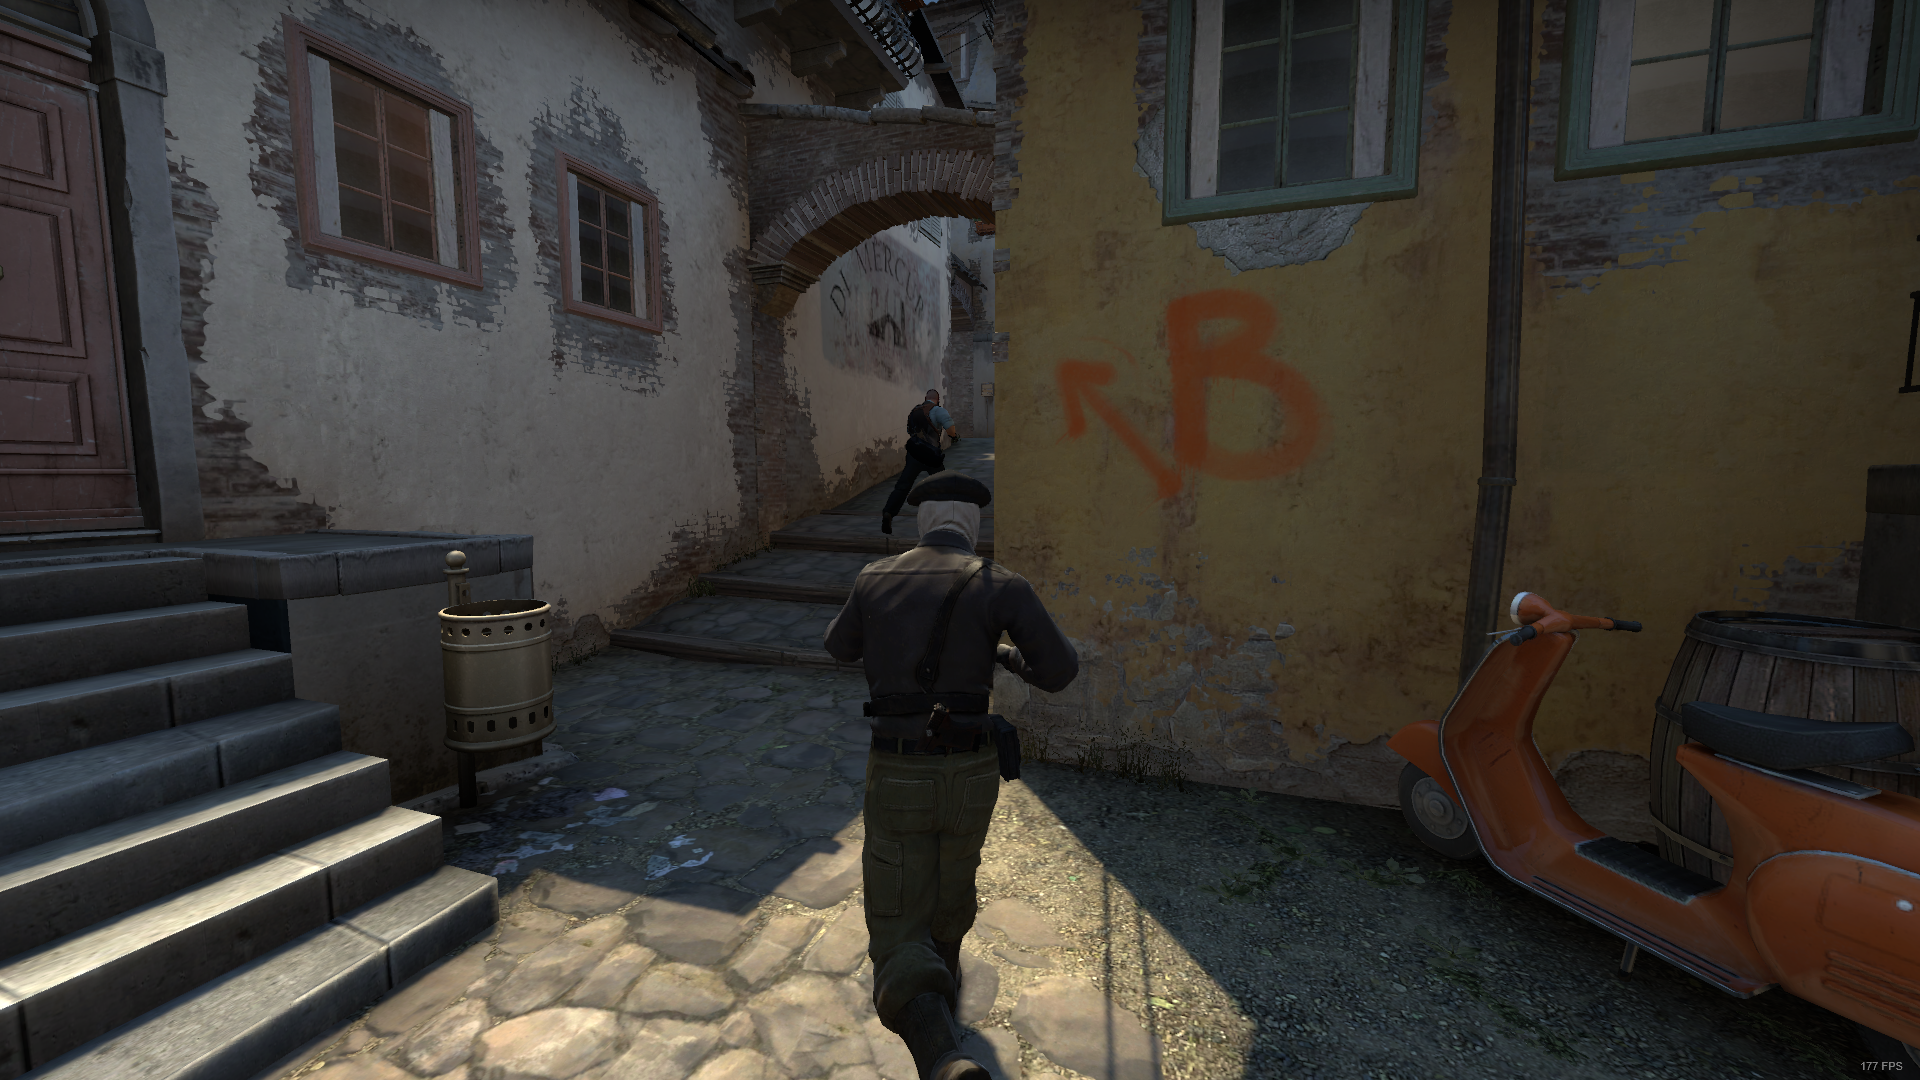t: (824, 471, 1085, 1077)
